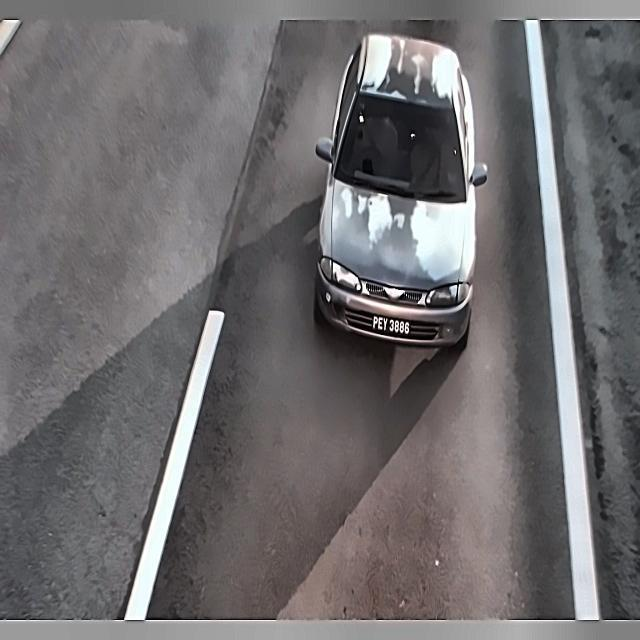car: (368, 302, 413, 345)
